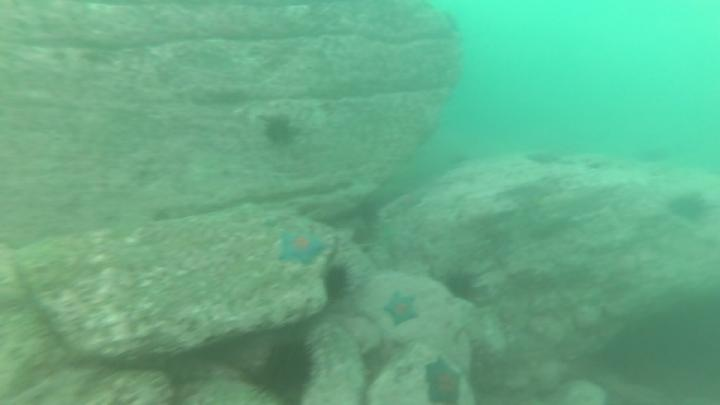echinus: (255, 338, 321, 404), (667, 195, 706, 225), (325, 263, 353, 304), (442, 272, 476, 303), (263, 119, 298, 149)
starfish: (421, 355, 468, 405), (276, 227, 330, 269), (383, 190, 428, 224), (384, 292, 422, 327)
